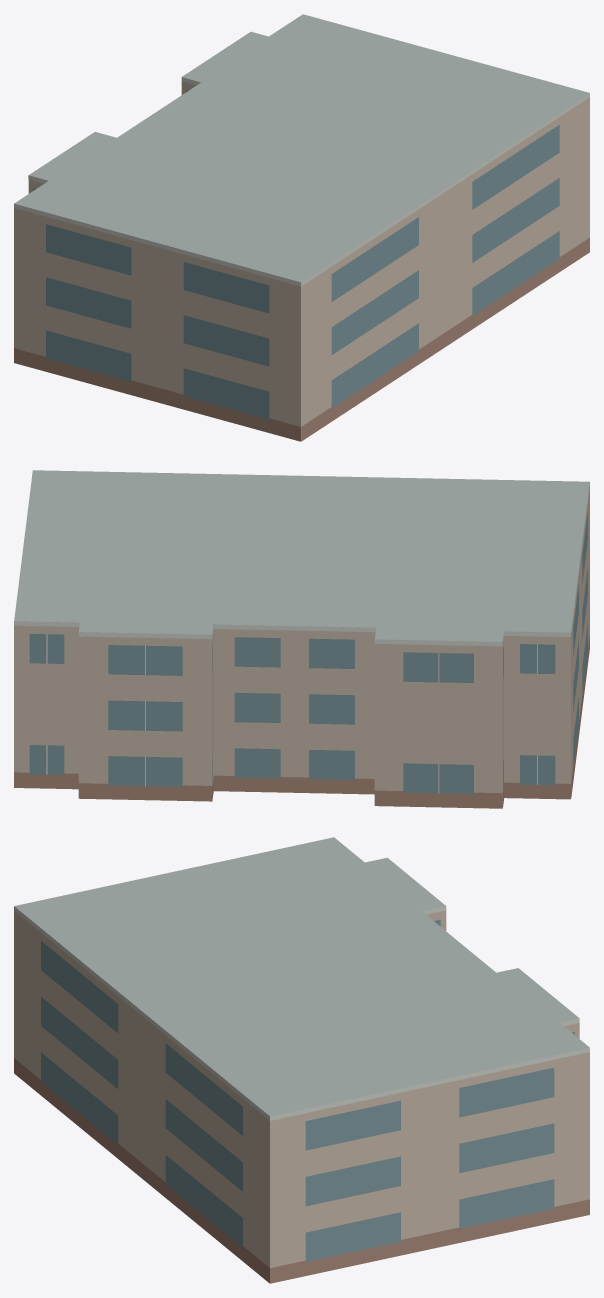
The model's file is survey-upis-32907842.glb.
3 views of the same model, one above another, from view 1: azimuth 30°, elevation 25°; view 2: azimuth 150°, elevation 25°; view 3: azimuth 270°, elevation 25° (orthographic). The views are drawn at different scales.
Parts seen in each view (by area): view 1: survey-upis-32907842.tmp; view 2: survey-upis-32907842.tmp; view 3: survey-upis-32907842.tmp.
Part boxes in pixels (x1,y1,x2,y2): survey-upis-32907842.tmp: [14, 14, 589, 441]; survey-upis-32907842.tmp: [14, 470, 589, 808]; survey-upis-32907842.tmp: [14, 837, 589, 1283].
Bounding box in the file's own units: 32.77 × 9.15 × 28.56.
